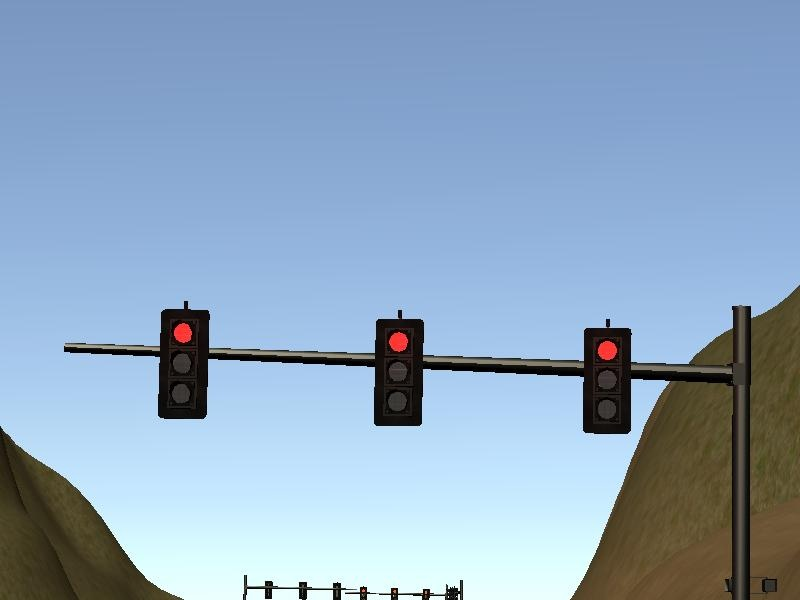RED: (158, 310, 209, 419), (371, 316, 422, 425), (582, 327, 633, 436)
